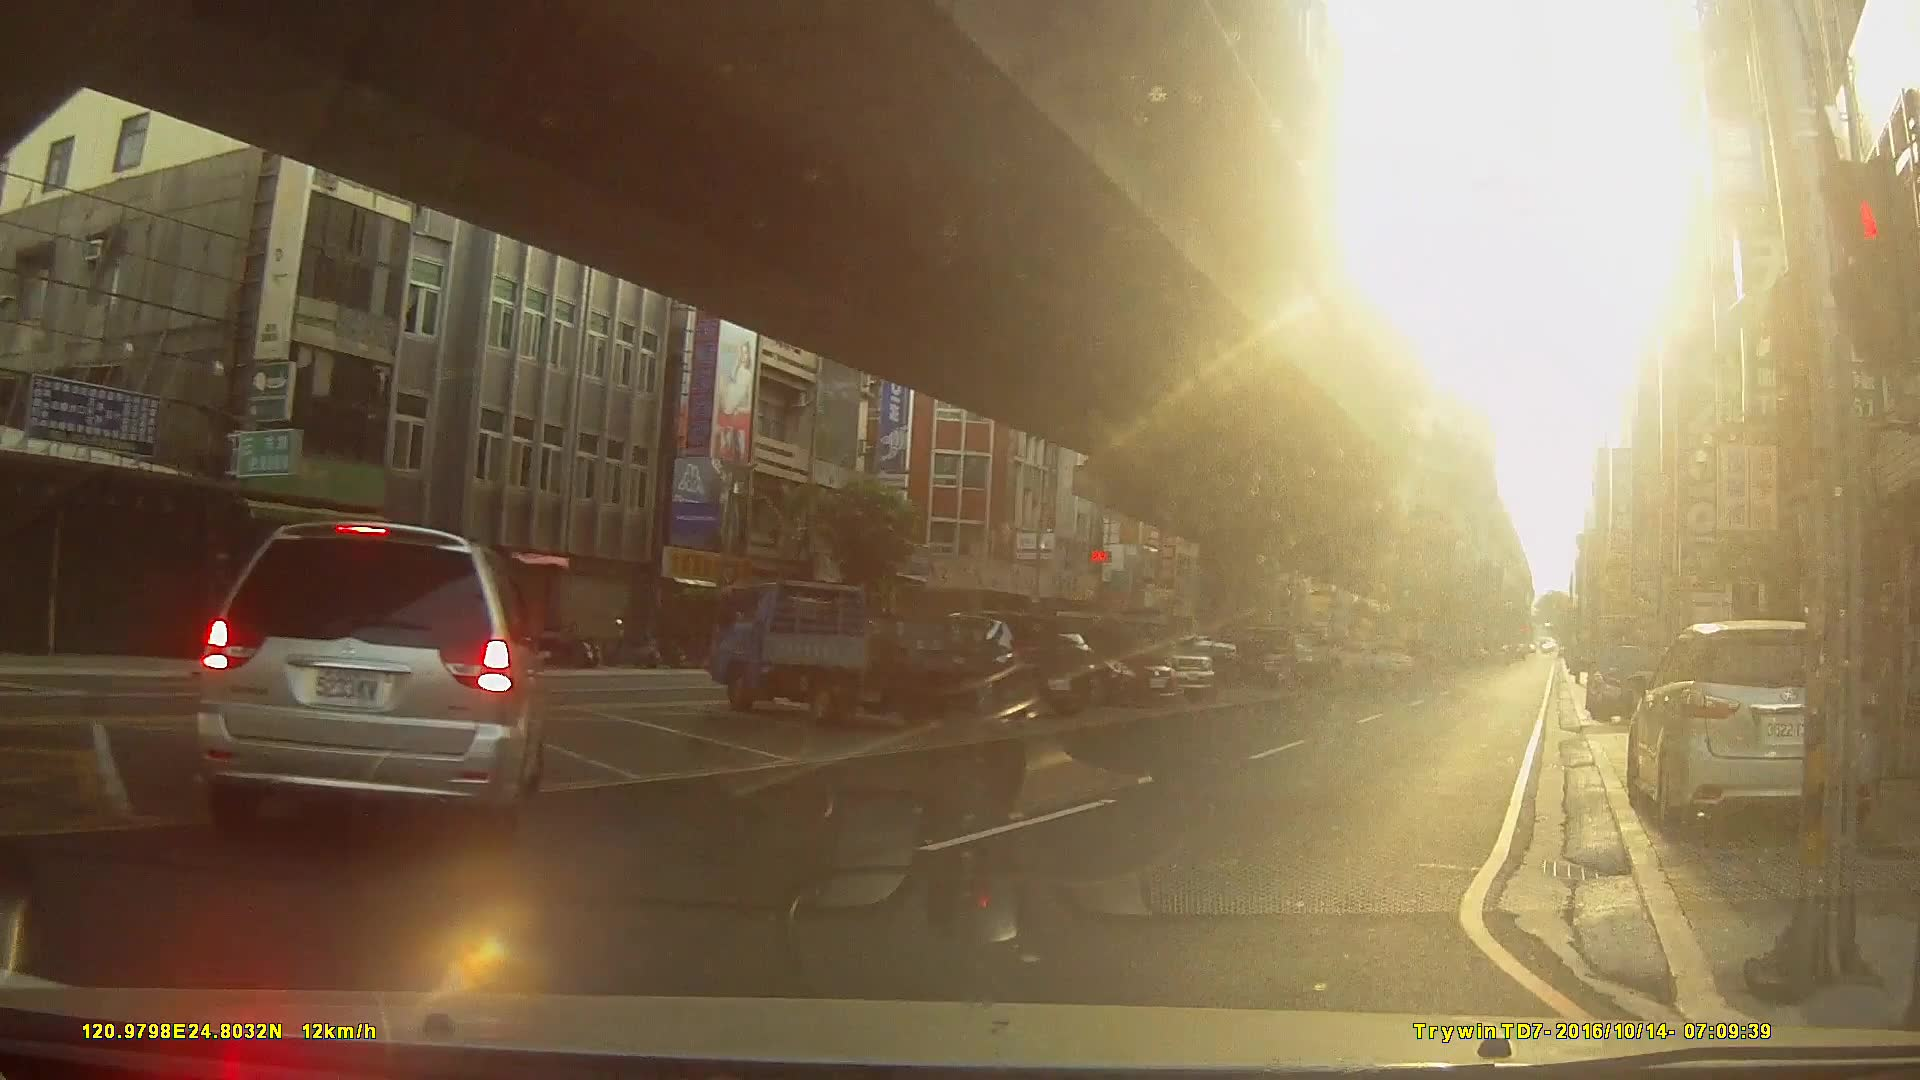vehicle: (193, 520, 543, 847), (1623, 617, 1886, 843), (705, 578, 980, 729), (911, 611, 1098, 717), (1011, 618, 1180, 705), (1142, 632, 1269, 687)
